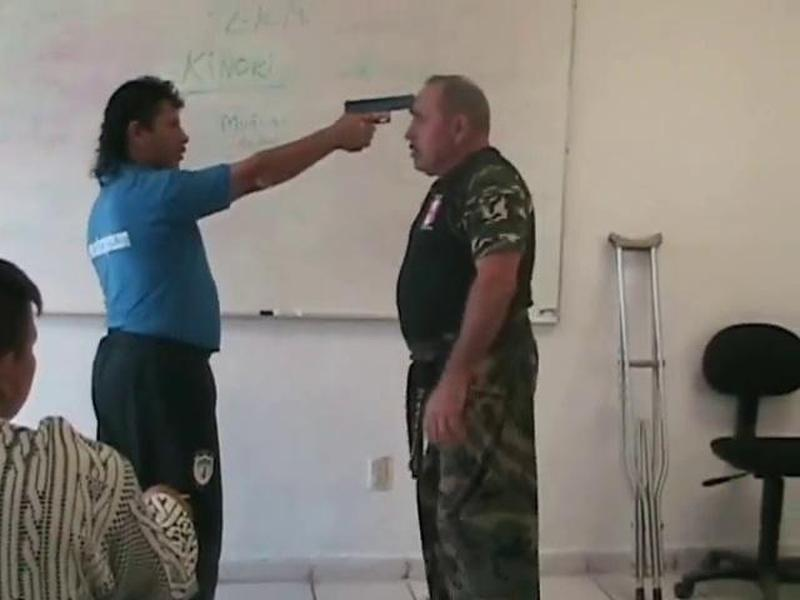Pistola: (332, 82, 430, 164)
